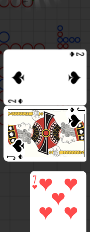2S: (6, 98, 24, 105)
7H: (31, 175, 38, 191)
